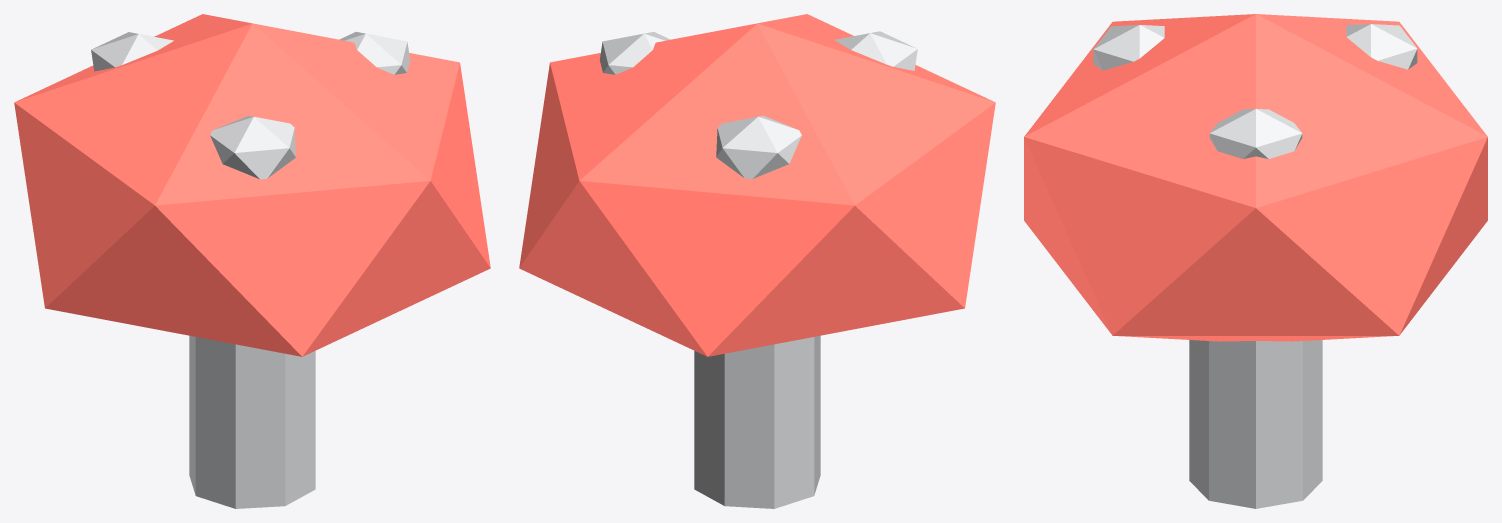
Rendered from mushroom.glb.
3 views of the same model, side by side, from view 1: azimuth 30°, elevation 25°; view 2: azimuth 150°, elevation 25°; view 3: azimuth 270°, elevation 25° (orthographic).
Visible parts, largest first — view 1: MushroomCap, MushroomStem, MushroomDot2, MushroomDot1, MushroomDot0; view 2: MushroomCap, MushroomStem, MushroomDot1, MushroomDot2, MushroomDot0; view 3: MushroomCap, MushroomStem, MushroomDot0, MushroomDot2, MushroomDot1.
Part boxes in pixels (x1=…): MushroomCap: x1=14, y1=14, x2=490, y2=356; MushroomStem: x1=189, y1=335, x2=315, y2=508; MushroomDot2: x1=210, y1=115, x2=295, y2=179; MushroomDot1: x1=91, y1=32, x2=173, y2=71; MushroomDot0: x1=339, y1=32, x2=409, y2=74; MushroomCap: x1=519, y1=14, x2=995, y2=356; MushroomStem: x1=694, y1=335, x2=820, y2=508; MushroomDot1: x1=716, y1=115, x2=801, y2=178; MushroomDot2: x1=834, y1=31, x2=917, y2=70; MushroomDot0: x1=600, y1=32, x2=670, y2=74; MushroomCap: x1=1024, y1=14, x2=1487, y2=341; MushroomStem: x1=1189, y1=340, x2=1322, y2=508; MushroomDot0: x1=1209, y1=108, x2=1302, y2=158; MushroomDot2: x1=1093, y1=25, x2=1164, y2=70; MushroomDot1: x1=1346, y1=24, x2=1417, y2=69.
Size of the model in its own units: 0.805 by 0.85 by 0.7656.
